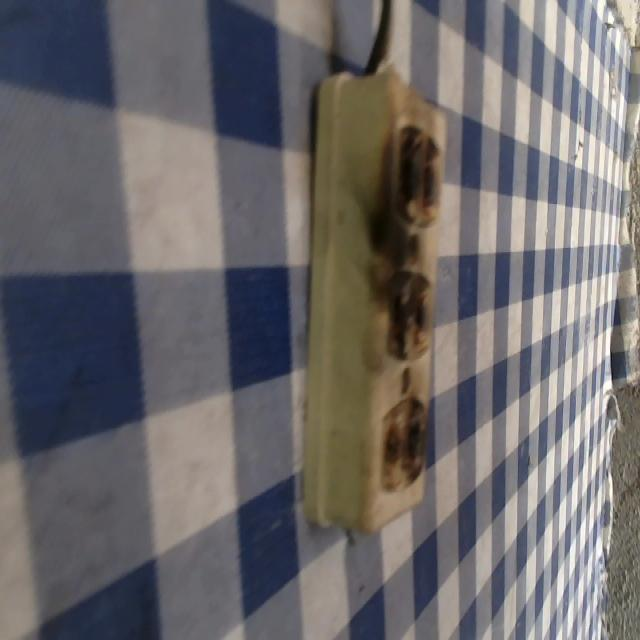-: (394, 121, 441, 228), (385, 264, 433, 364), (380, 392, 423, 491)
